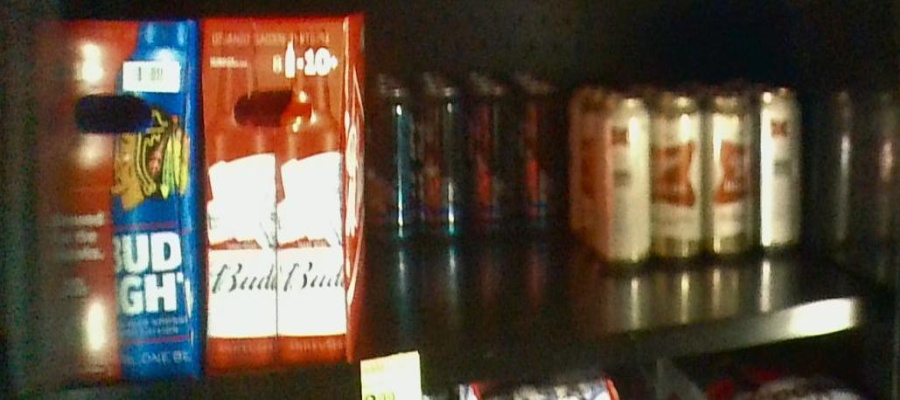bottle: (31, 16, 201, 382), (203, 12, 364, 368), (598, 95, 707, 268), (705, 92, 808, 260), (463, 85, 561, 237), (373, 89, 463, 245)
